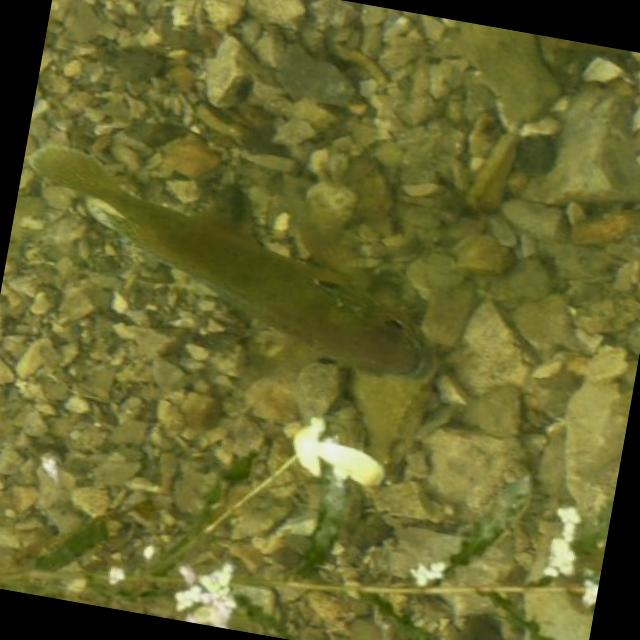Gunes Levregi: (2, 138, 488, 415)
